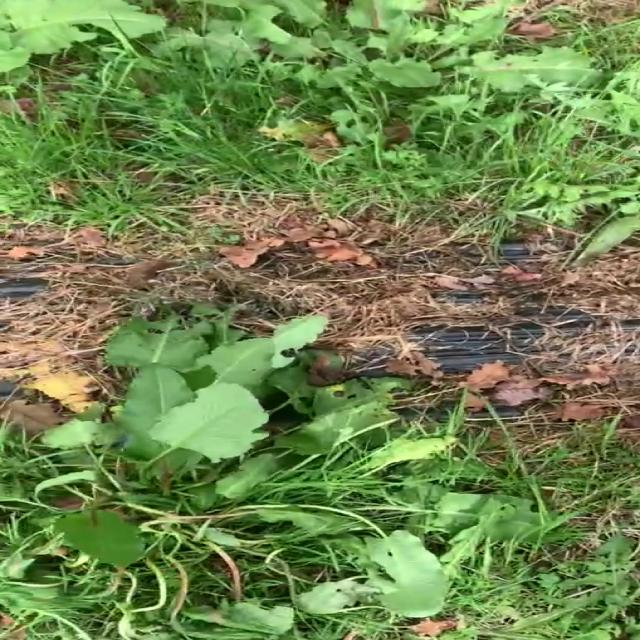organic waste: (24, 302, 513, 640), (165, 0, 606, 135), (0, 0, 160, 85)
